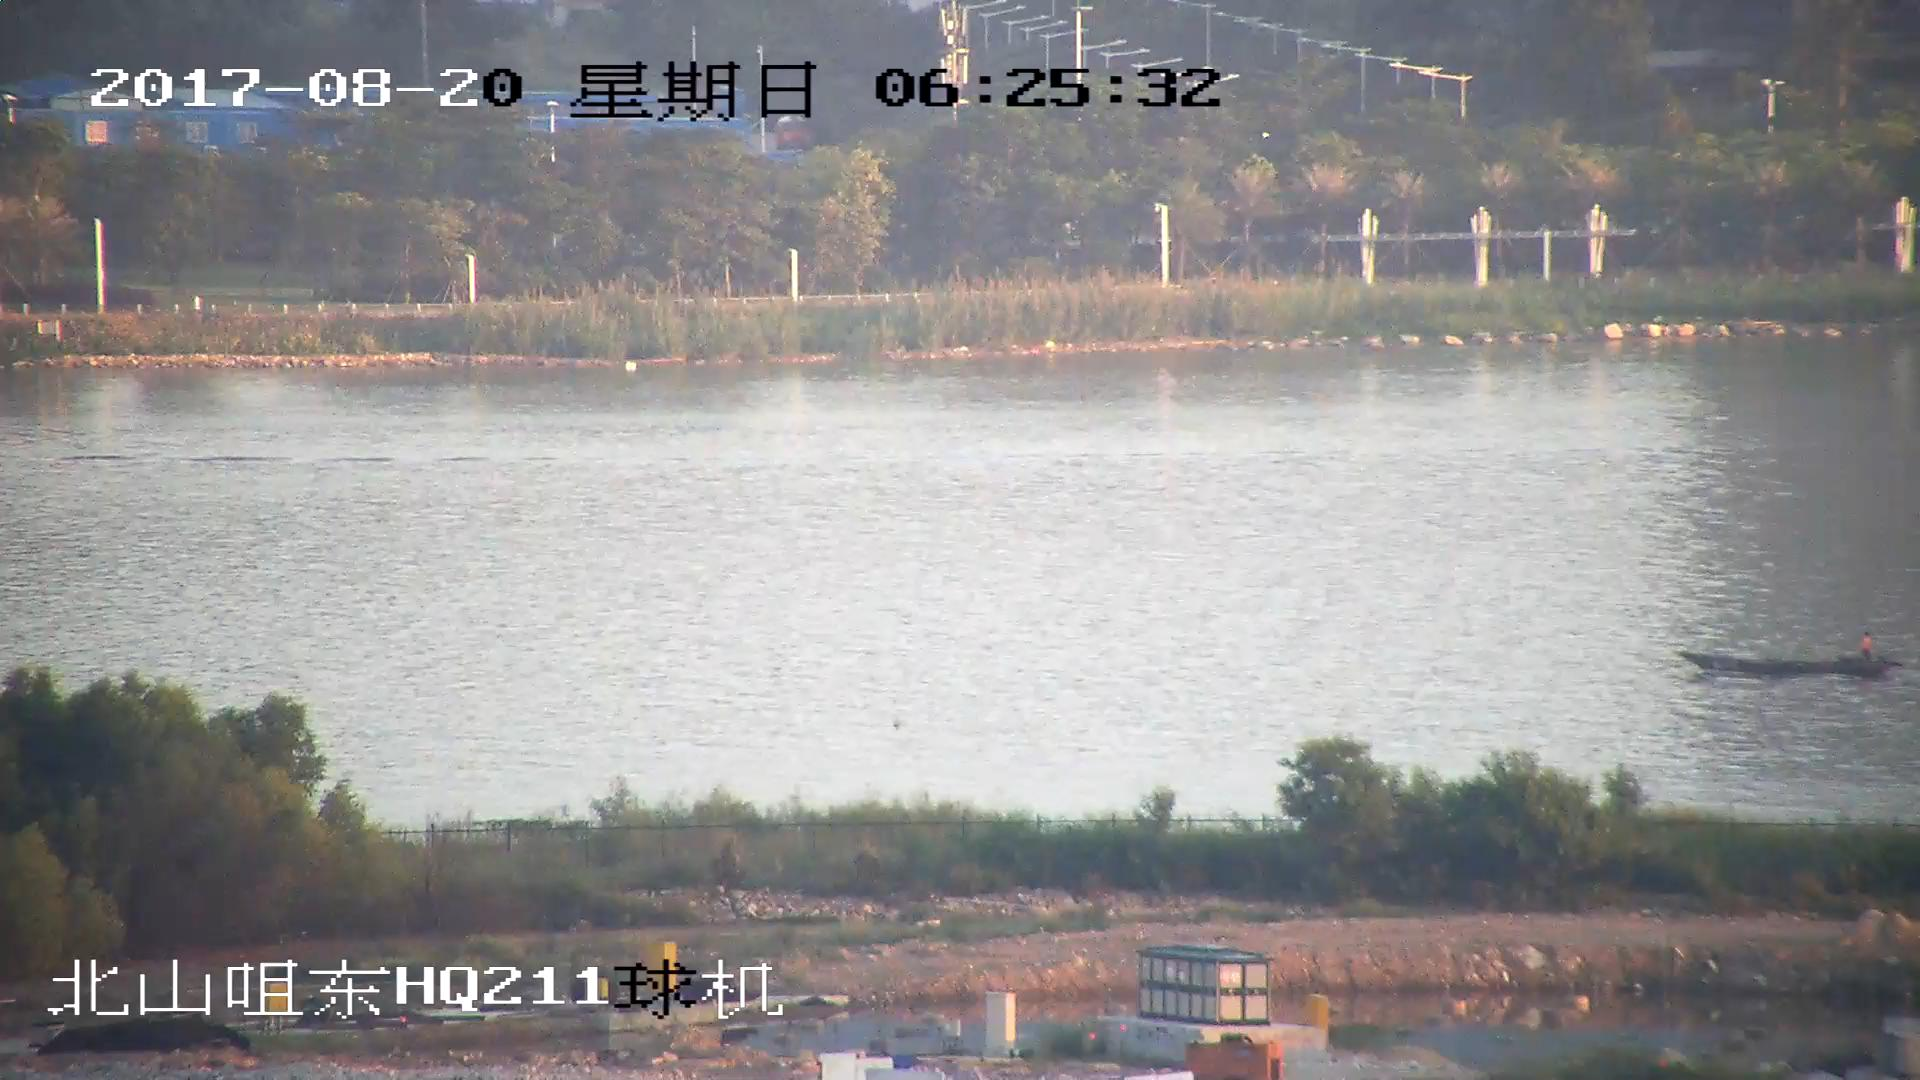fishing boat: (1684, 633, 1895, 680)
